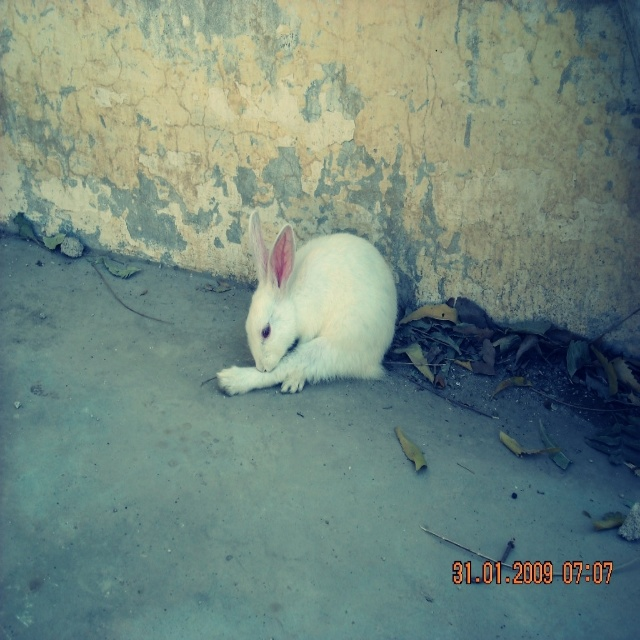Rabbit: (214, 207, 399, 398)
